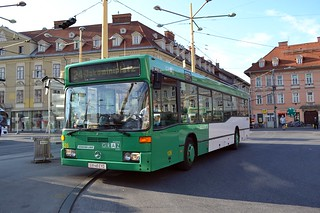bus: (60, 54, 250, 173)
